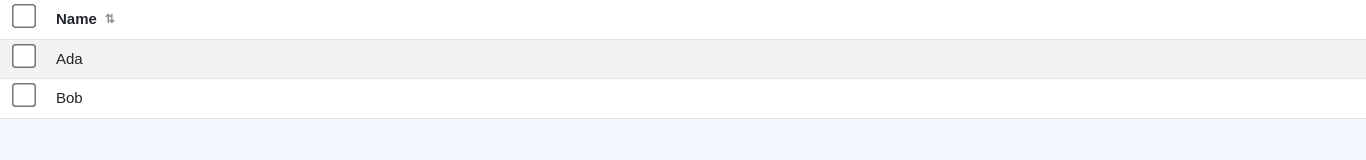
Test: DataTable › select-all checkbox selects all rows on page
The width and height of the screenshot is (1366, 160).
Step 1. Click the checkbox with test id "select-all-checkbox" → click(24, 16), box [12,4,36,28]
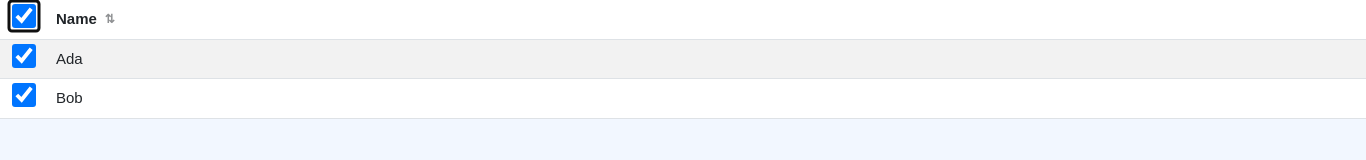
expect the checkbox with test id "select-all-checkbox" is checked: met
expect the checkbox with test id "select-row-1" is checked: met, box [12,44,36,68]
expect the checkbox with test id "select-row-2" is checked: met, box [12,83,36,107]
# Unselect all
Step 2. Click the checkbox with test id "select-all-checkbox" → click(24, 16), box [12,4,36,28]
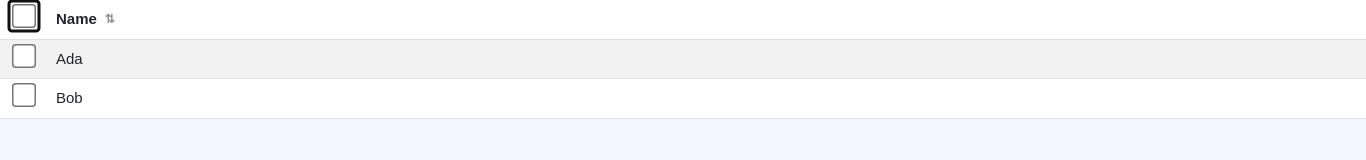
expect the checkbox with test id "select-all-checkbox" is not checked: met, box [12,4,36,28]
expect the checkbox with test id "select-row-1" is not checked: met, box [12,44,36,68]
expect the checkbox with test id "select-row-2" is not checked: met, box [12,83,36,107]
